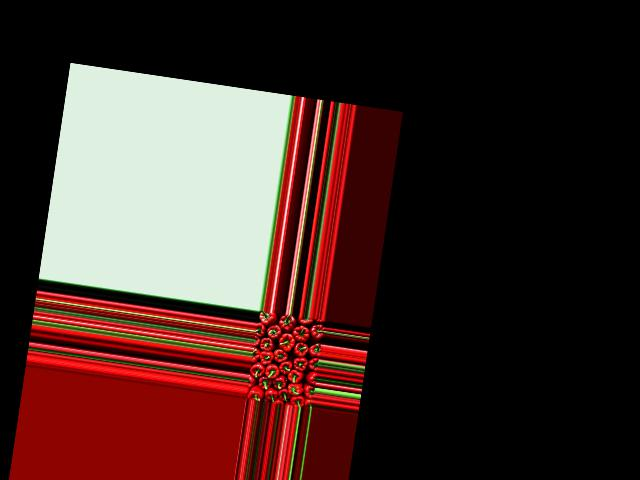bell_pepper: (247, 384, 263, 400)
